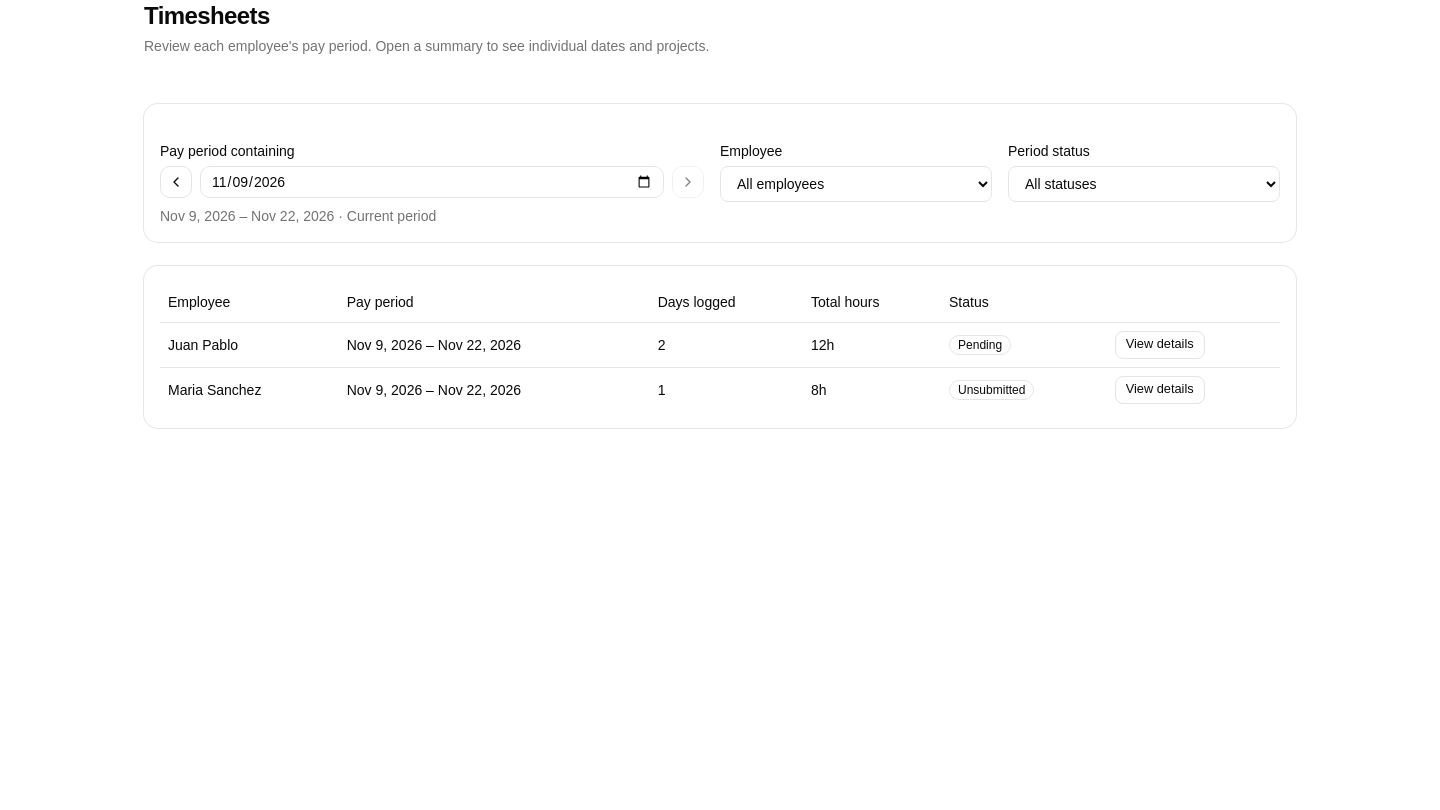
Scenario: approval requires confirmation and cancel sends no mutation
Click the button with aria-label "View Juan Pablo's timesheet details" at (1160, 344), box [1115,330,1205,358]
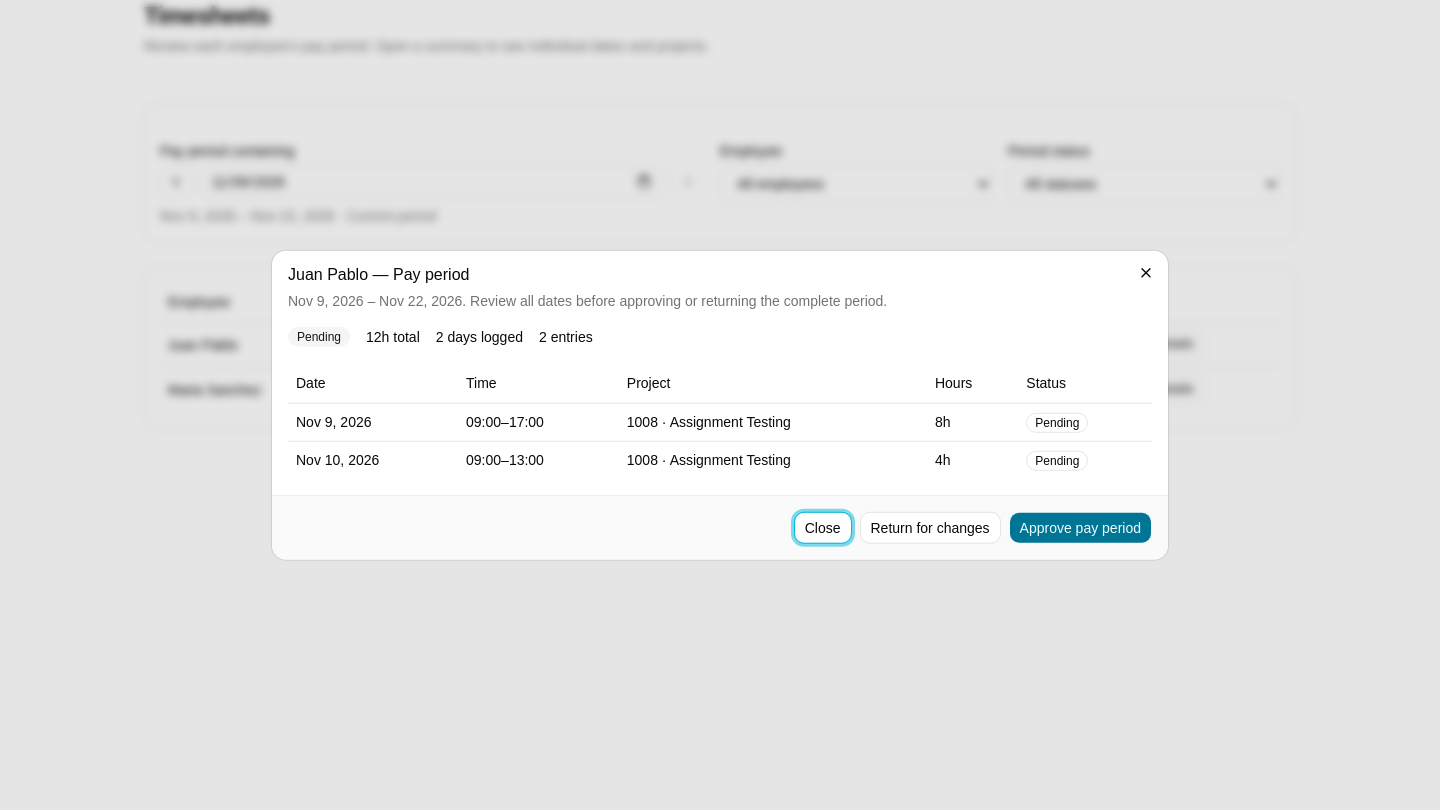
Click the button "Approve pay period" at (1080, 527), box [1009,511,1152,543]
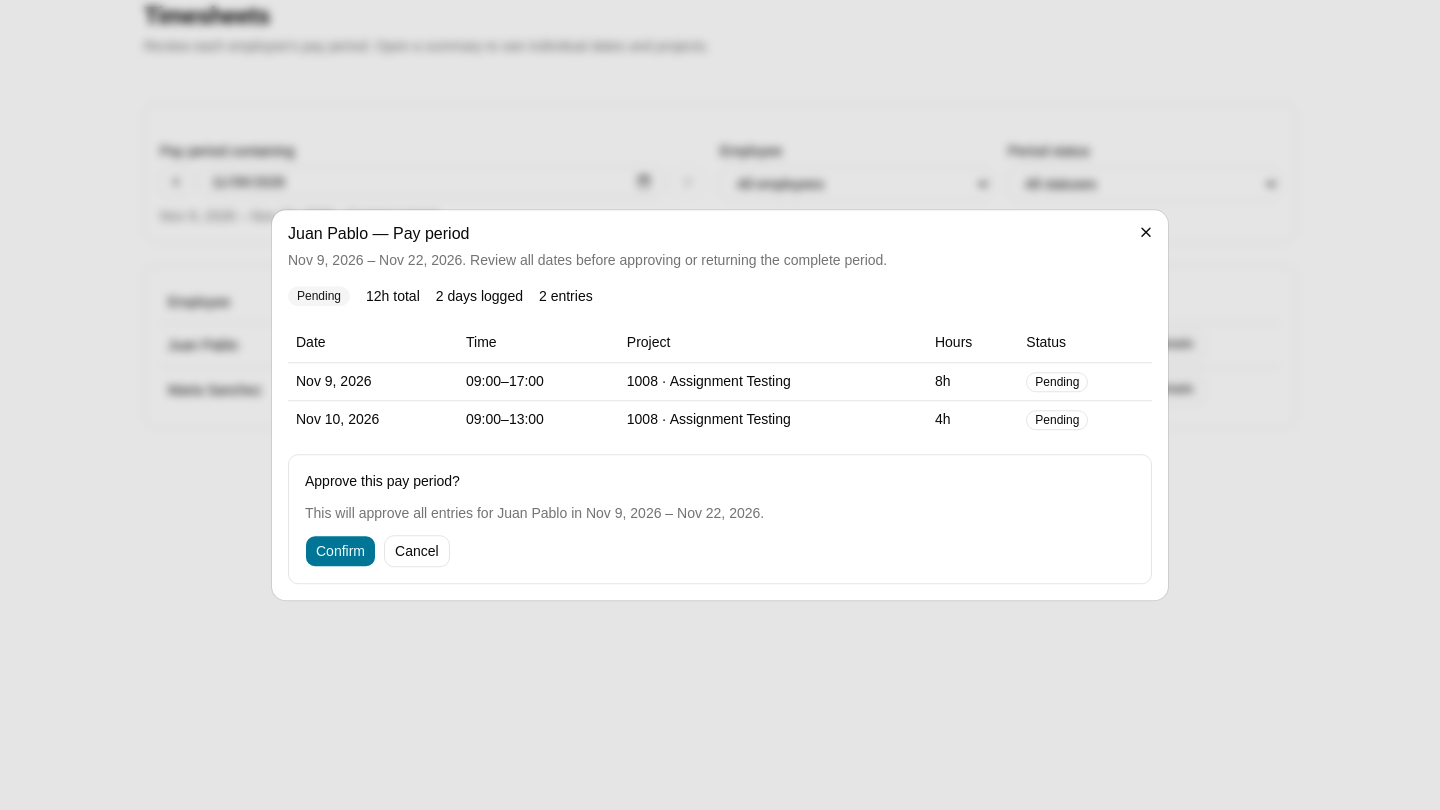
Check: the text "Approve this pay period?" is shown, box [305,473,460,489]
Click the button "Cancel" at (417, 551), box [384,535,450,567]
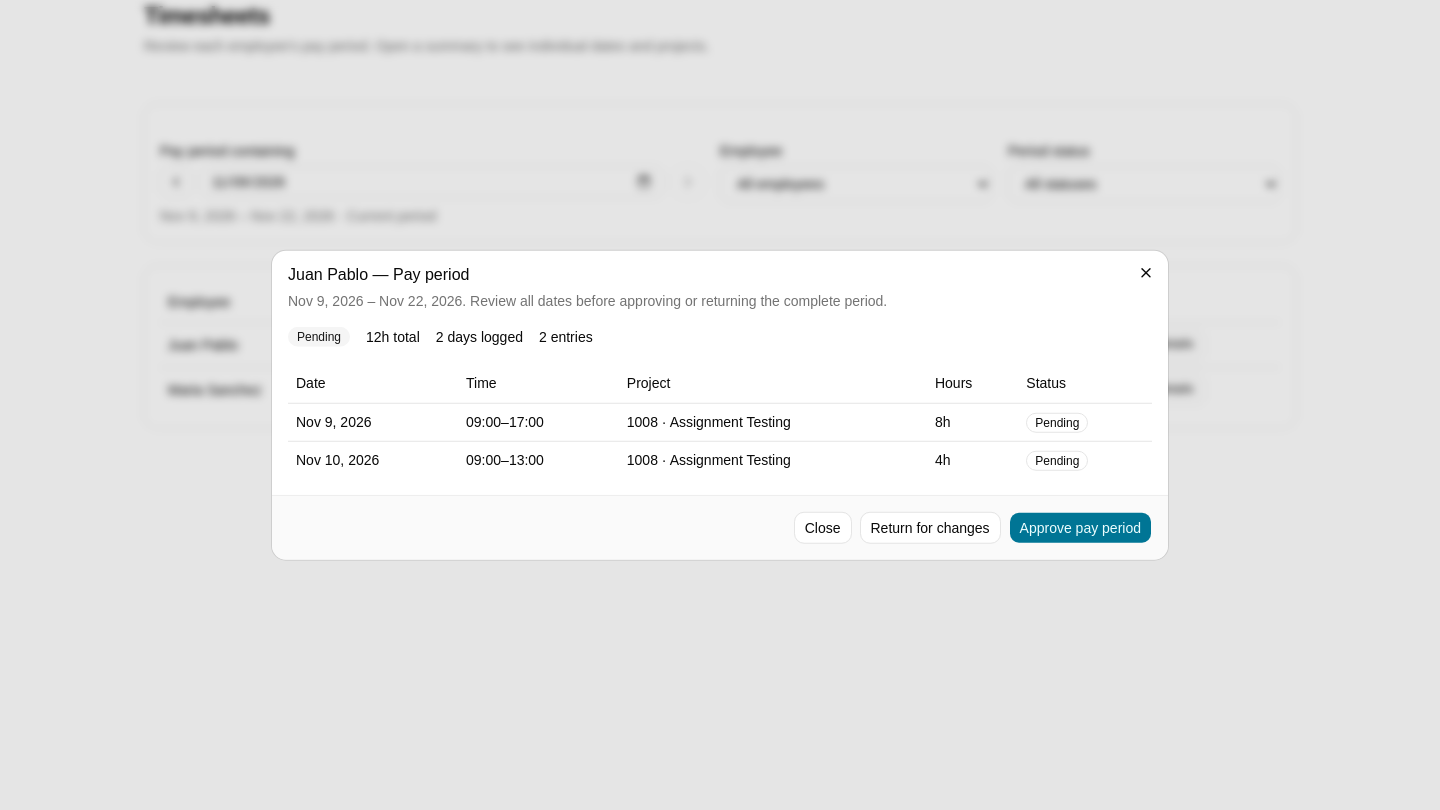
Click the button "Approve pay period" at (1080, 527), box [1009,511,1152,543]
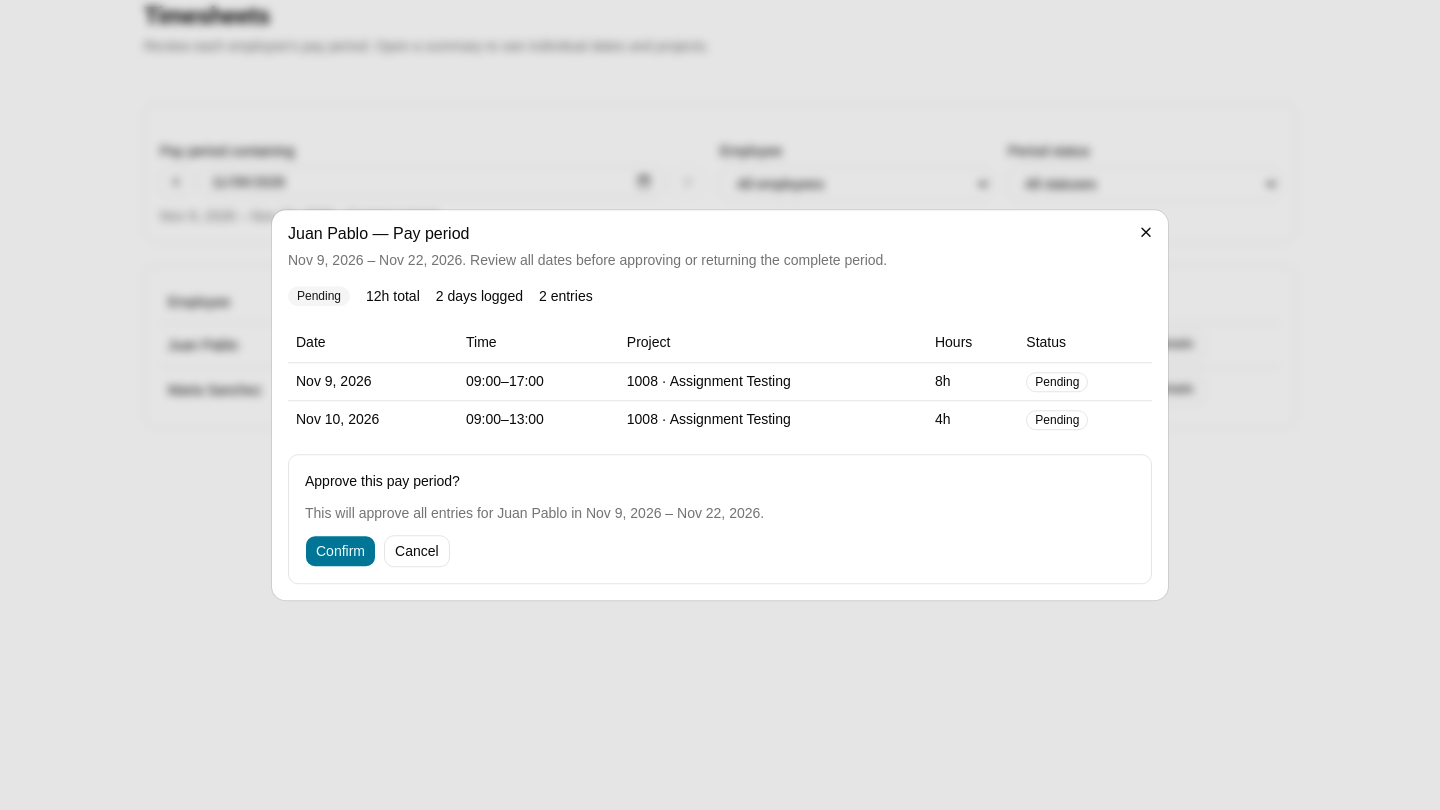
Click the button "Confirm" at (340, 551), box [305,535,376,567]
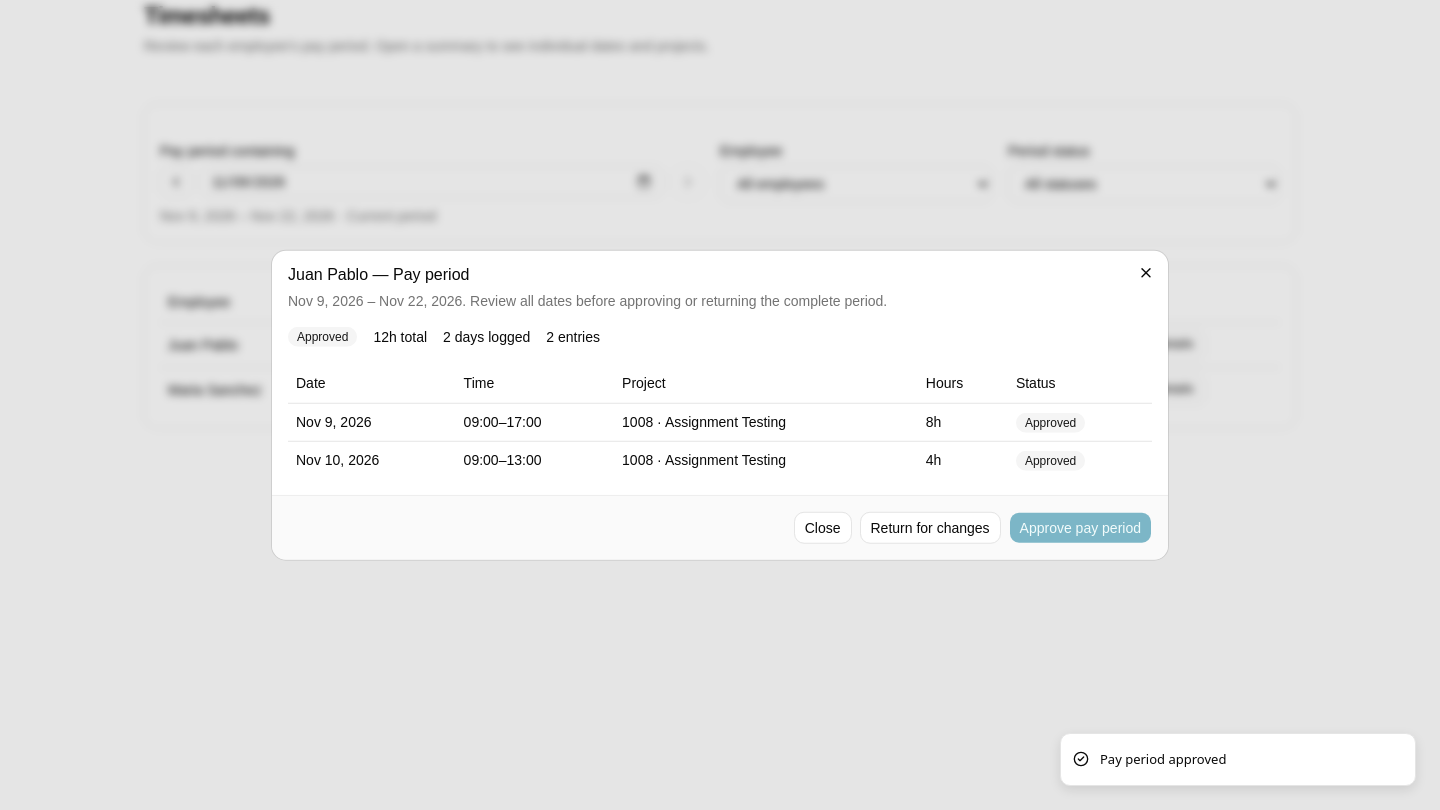
Check: the text "Approved" is shown 3 times, box [288,327,357,347]; [1016,412,1085,432]; [1016,450,1085,470]
Check: the button "Approve pay period" is disabled, box [1009,511,1152,543]
